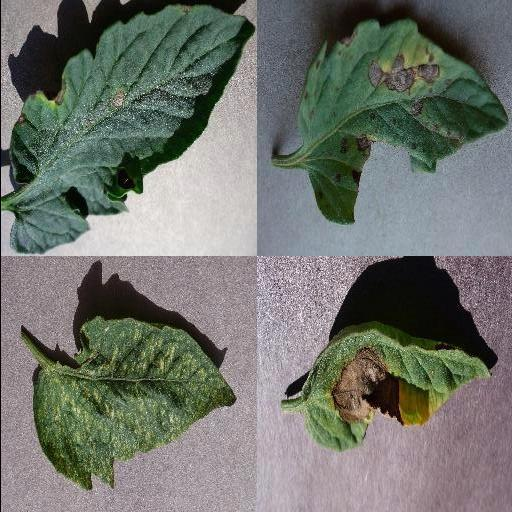Early Blight: (7, 6, 249, 256), (302, 21, 508, 225), (293, 323, 497, 452)
Spider Mites: (30, 316, 238, 489)
